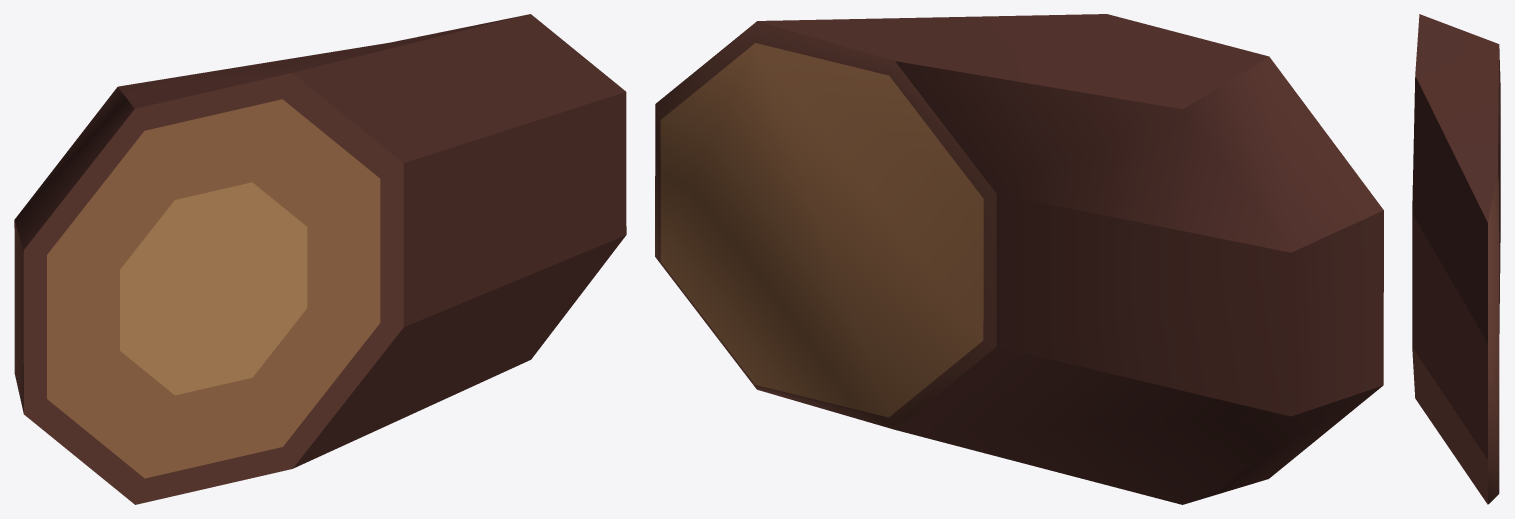
Rendered from icon_wood.fbx.
3 views of the same model, side by side, from view 1: azimuth 30°, elevation 25°; view 2: azimuth 150°, elevation 25°; view 3: azimuth 270°, elevation 25° (orthographic). The views are drawn at different scales.
Parts seen in each view (by area): view 1: icon_wood; view 2: icon_wood; view 3: icon_wood.
Part boxes in pixels (x1,y1,x2,y2): icon_wood: [14, 14, 626, 504]; icon_wood: [655, 14, 1383, 504]; icon_wood: [1412, 14, 1500, 504].
Bounding box in the file's own units: 42.85 × 25.24 × 6.27.
